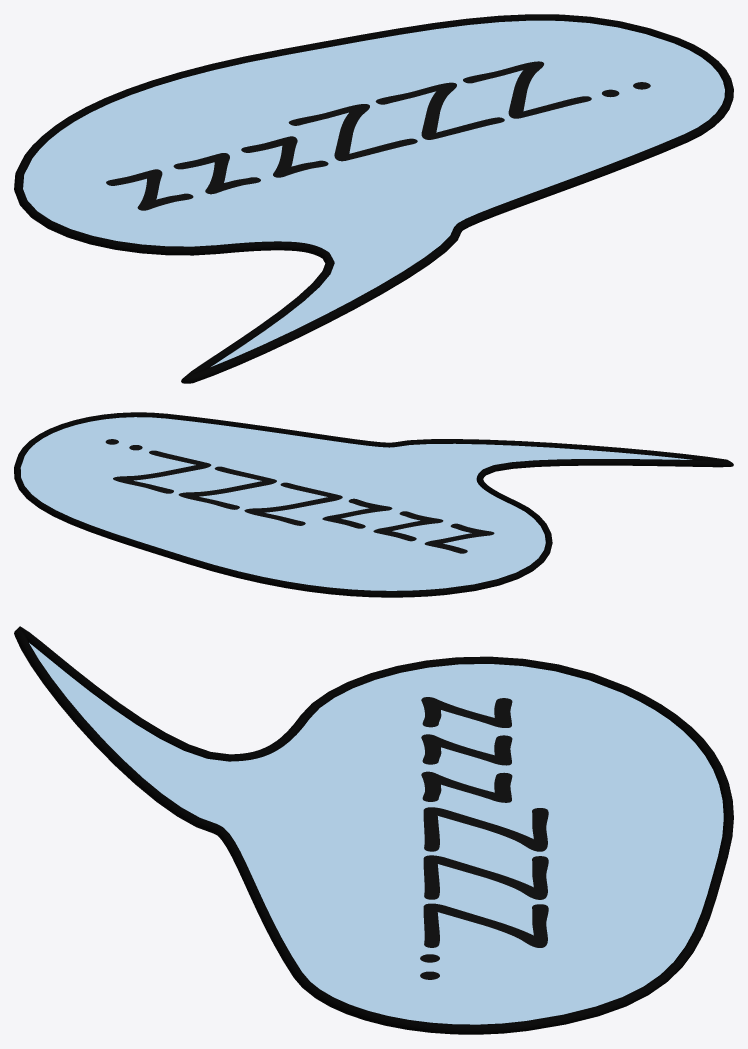
File: zzzZZZ.fbx
The picture shows the model from 3 angles, top to bottom: view 1: azimuth 30°, elevation 25°; view 2: azimuth 150°, elevation 25°; view 3: azimuth 270°, elevation 25°; orthographic projection. The views are drawn at different scales.
Visible parts, largest first — view 1: BezierCircle.009, BezierCircle.008, Text.004; view 2: BezierCircle.009, BezierCircle.008, Text.004; view 3: BezierCircle.009, BezierCircle.008, Text.004.
Boxes of the visible parts, <box> form: BezierCircle.009: <box>23,20,724,366</box>; BezierCircle.008: <box>14,14,733,383</box>; Text.004: <box>106,61,650,210</box>; BezierCircle.009: <box>20,417,691,590</box>; BezierCircle.008: <box>14,412,733,597</box>; Text.004: <box>105,439,494,553</box>; BezierCircle.009: <box>29,643,723,1024</box>; BezierCircle.008: <box>14,626,733,1034</box>; Text.004: <box>420,697,548,979</box>.
Bounding box in the file's own units: 188 × 2.58 × 142.
